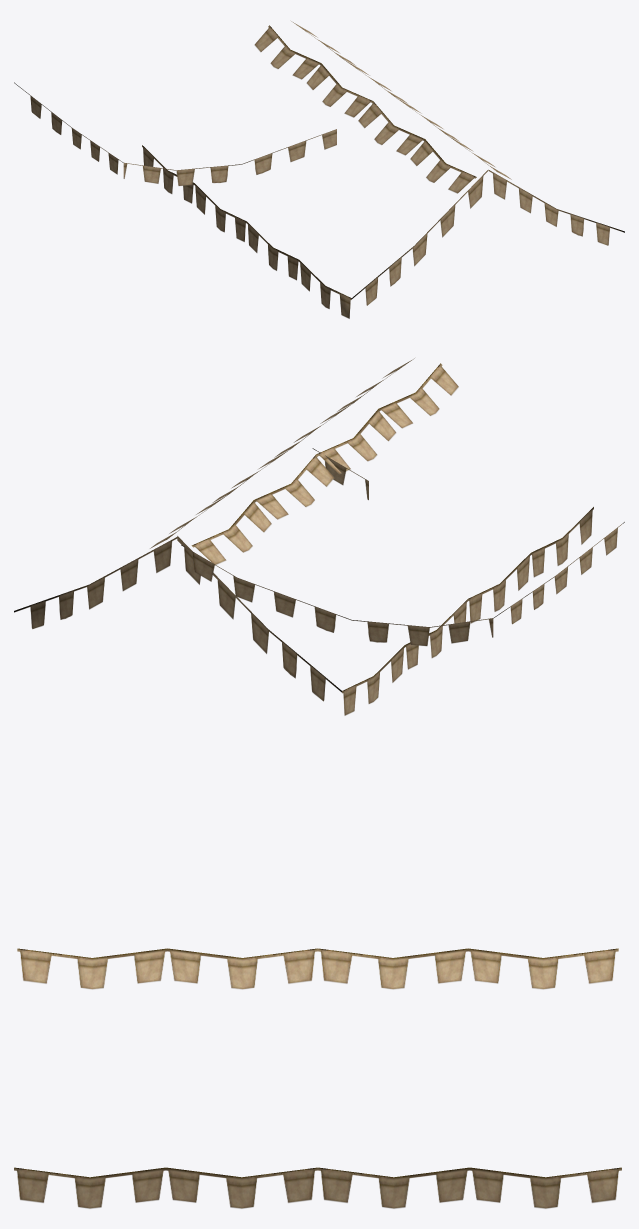
File: rome_tent_a_flaps.glb
The picture shows the model from 3 angles, top to bottom: view 1: azimuth 30°, elevation 25°; view 2: azimuth 150°, elevation 25°; view 3: azimuth 270°, elevation 25°; orthographic projection. The views are drawn at different scales.
Parts seen in each view (by area): view 1: rome_sb_tent_transp002; view 2: rome_sb_tent_transp002; view 3: rome_sb_tent_transp002.
Part boxes in pixels (<box>): rome_sb_tent_transp002: <box>14,21,624,318</box>; rome_sb_tent_transp002: <box>14,358,624,715</box>; rome_sb_tent_transp002: <box>14,948,621,1208</box>.
Bounding box in the file's own units: 7.88 × 2.43 × 7.19.
Materials: 1 (1 with a texture image).
